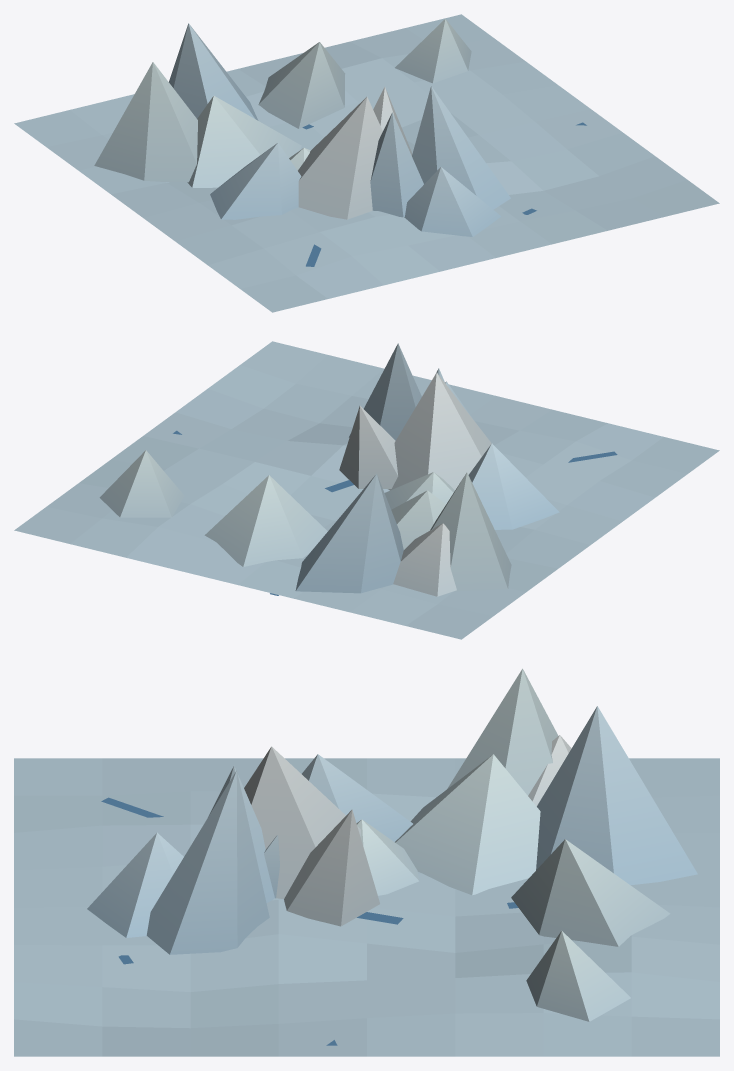
File: ice_v2_lowpoly.glb
3 views of the same model, one above another, from view 1: azimuth 30°, elevation 25°; view 2: azimuth 150°, elevation 25°; view 3: azimuth 270°, elevation 25° (orthographic). The views are drawn at different scales.
Visible parts, largest first — view 1: Ice_v2Tile; view 2: Ice_v2Tile; view 3: Ice_v2Tile.
Boxes of the visible parts, bbox=[...] form: Ice_v2Tile: bbox=[14, 14, 719, 312]; Ice_v2Tile: bbox=[14, 341, 719, 639]; Ice_v2Tile: bbox=[14, 668, 719, 1056].
Bounding box in the file's own units: 1 × 0.2476 × 1.
